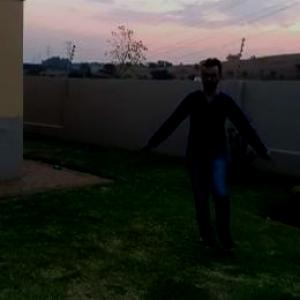land: (149, 56, 280, 262)
